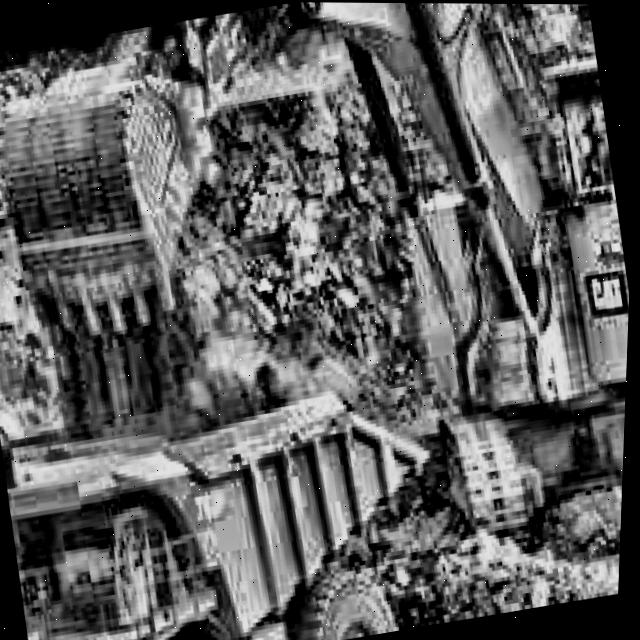dump_truck: (0, 326, 550, 640)
excavator: (0, 0, 640, 620)
